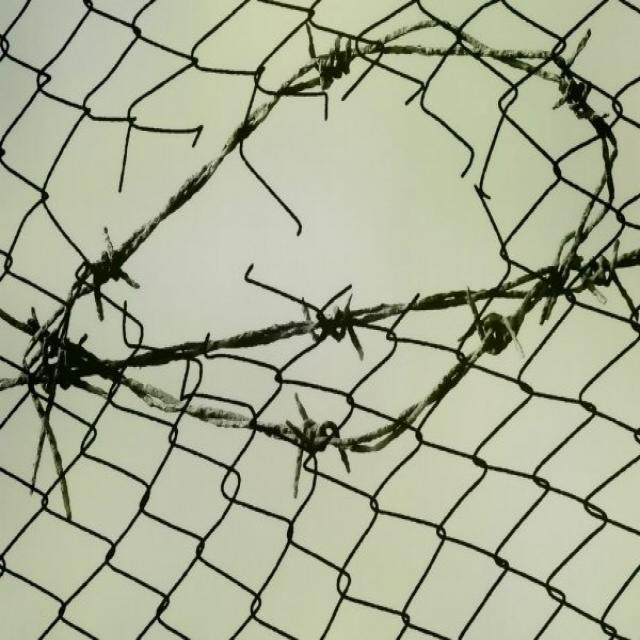fence line: (28, 50, 613, 449)
